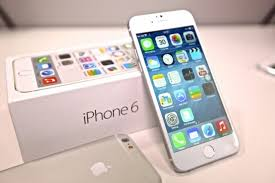iphone: (126, 8, 239, 171)
iphone6: (127, 9, 240, 172)
